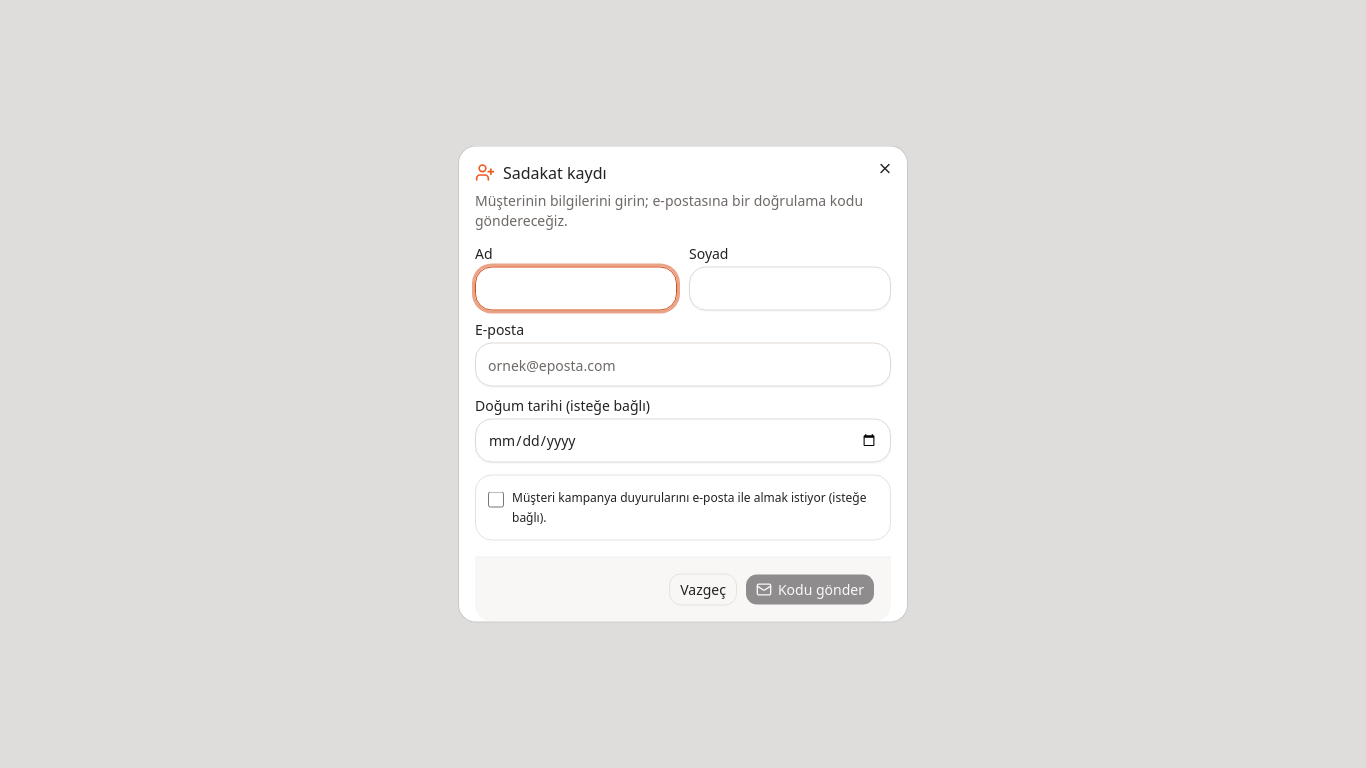
Test: LoyaltyEnrollmentDialog › walks details -> code -> card and hands the code back to the caller
The width and height of the screenshot is (1366, 768).
Type "Ahmet" into the field labelled "Ad" at [576, 288], box [475,266,677,310]
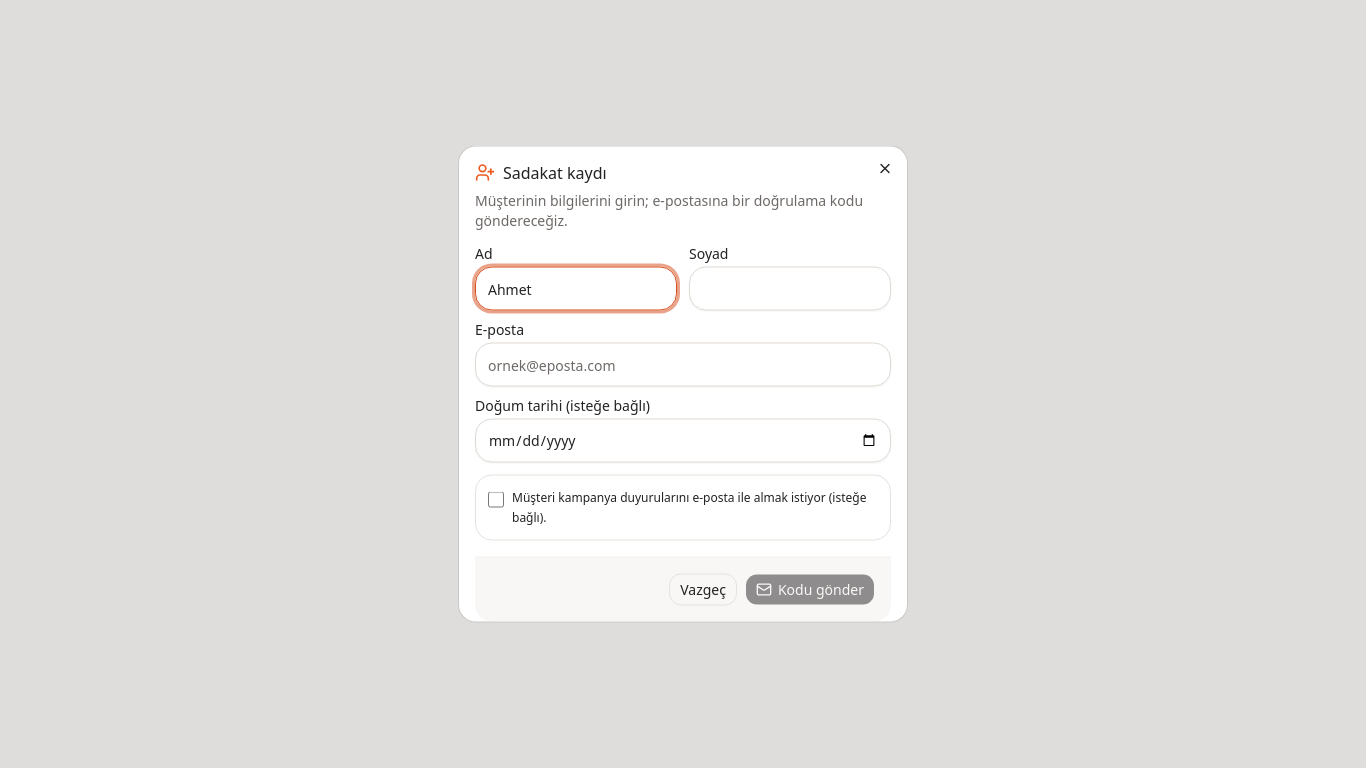
Type "Yılmaz" into the field labelled "Soyad" at [790, 288], box [689,266,891,310]
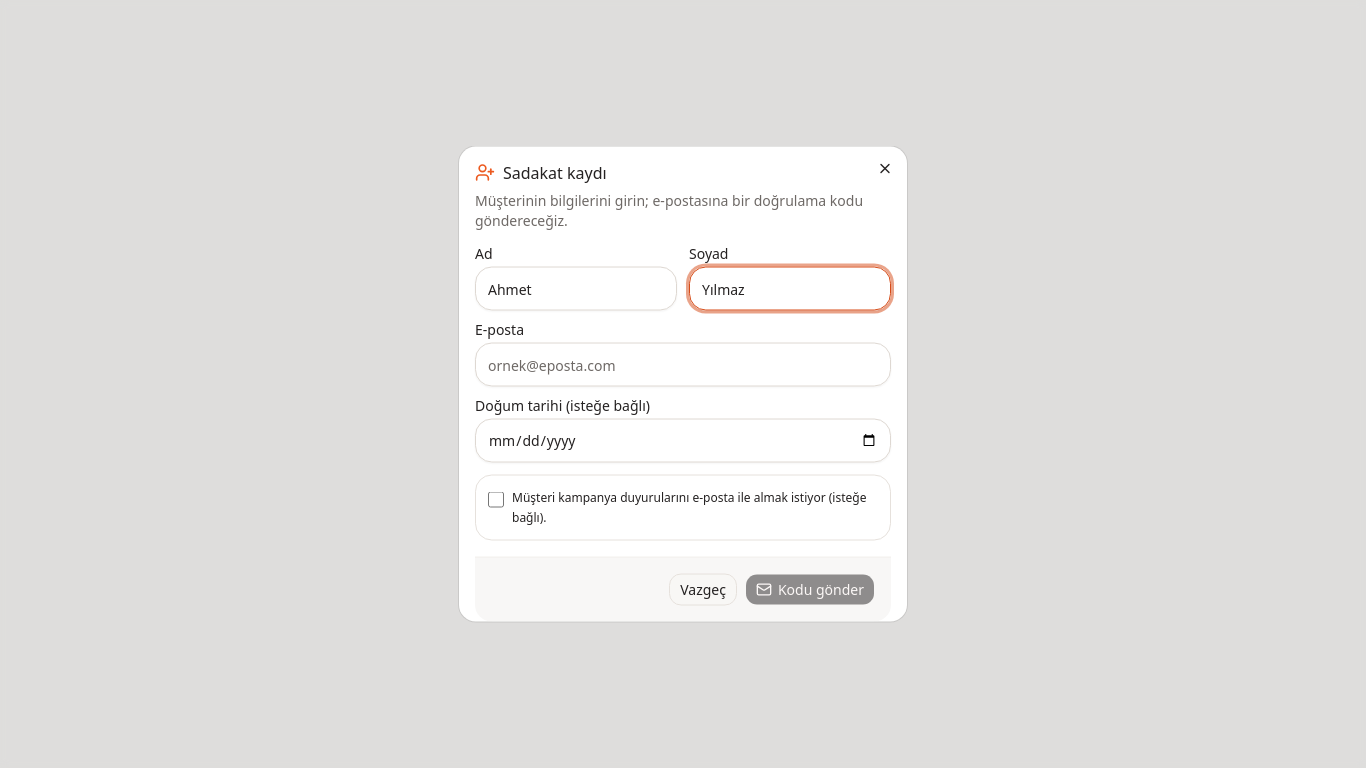
Type "ahmet@example.com" into the field labelled "E-posta" at [683, 364], box [475,342,891,386]
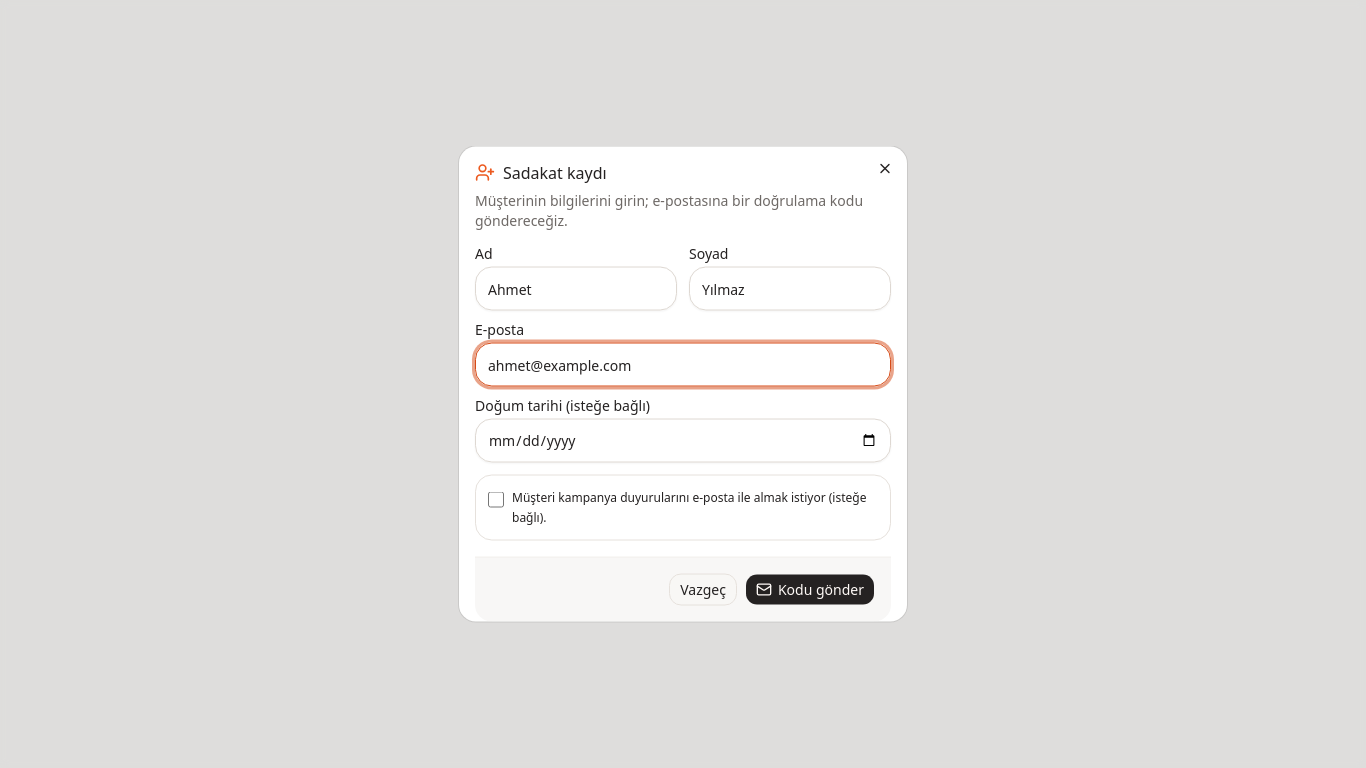
Click the button "Kodu gönder" at [810, 590], box [745,574,875,606]
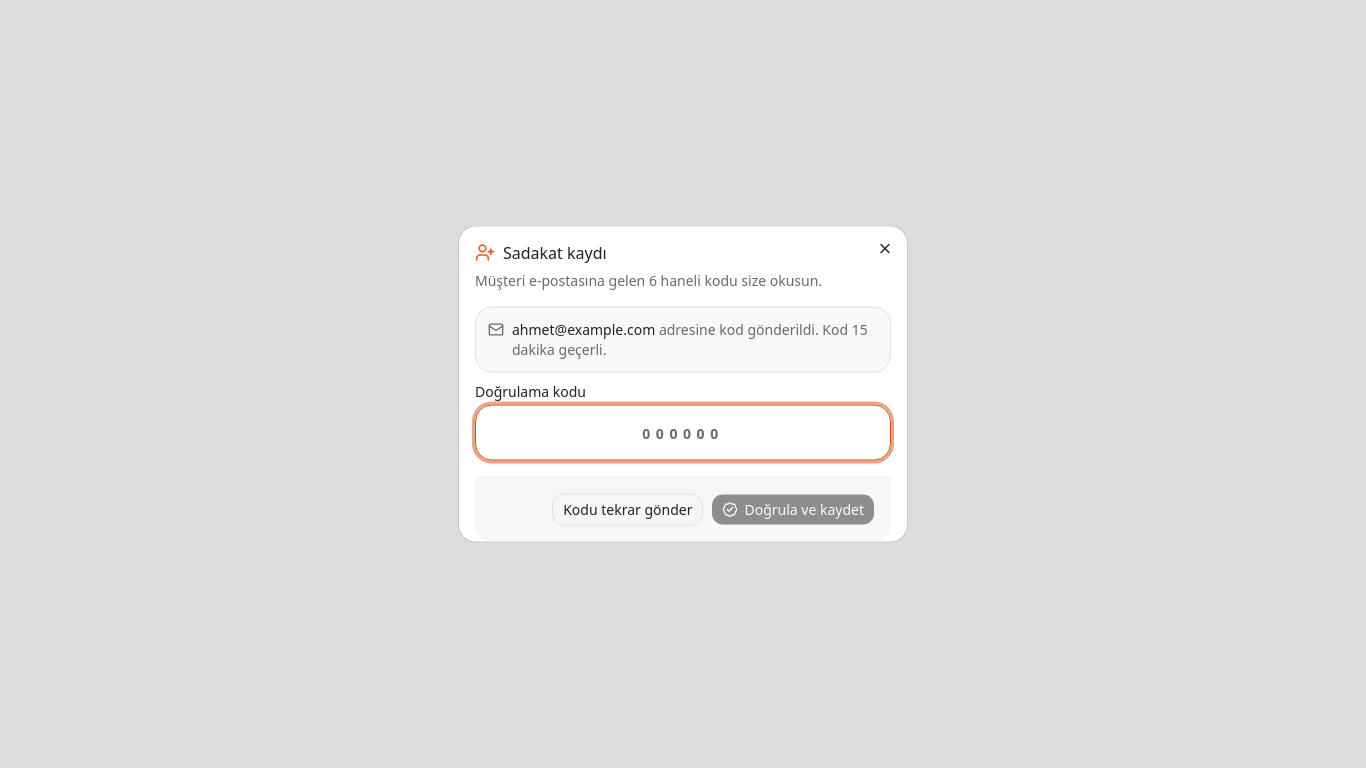
Type "123456" into the field labelled "Doğrulama kodu" at [683, 432], box [475,404,891,460]
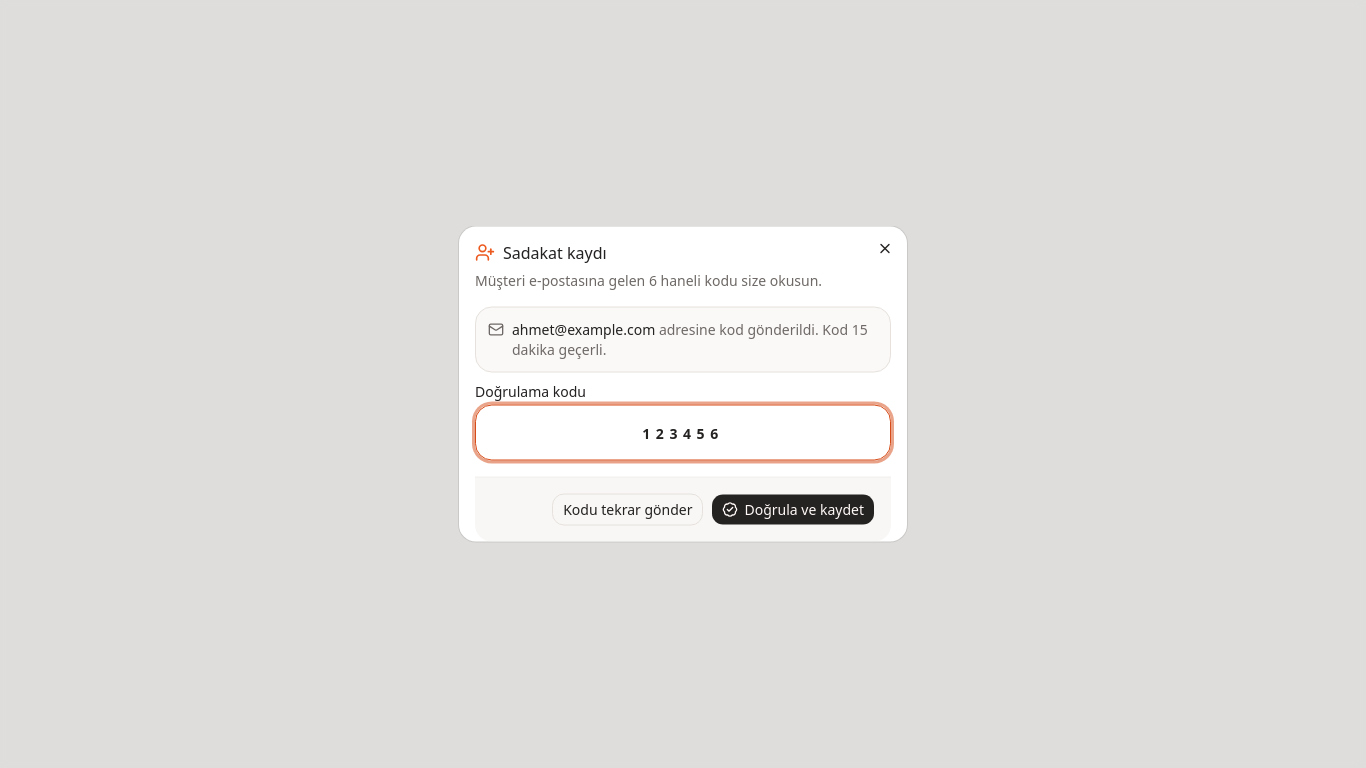
Click the button "Doğrula ve kaydet" at [793, 510], box [712,494,875,526]
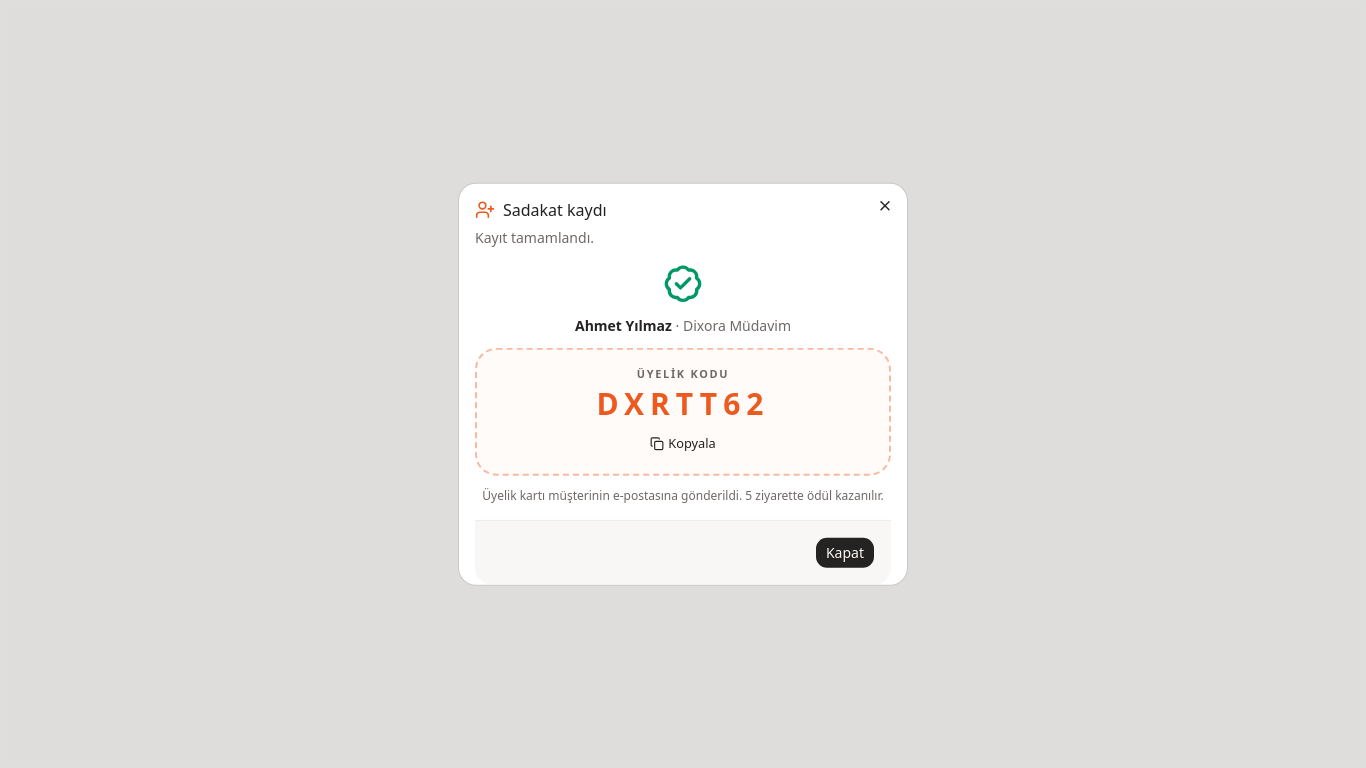
Now the text "DXRTT62" is shown, box [596,382,770,423]
Now the text "kartı müşterinin e-postasına gönderildi" is shown, box [482,486,742,503]
